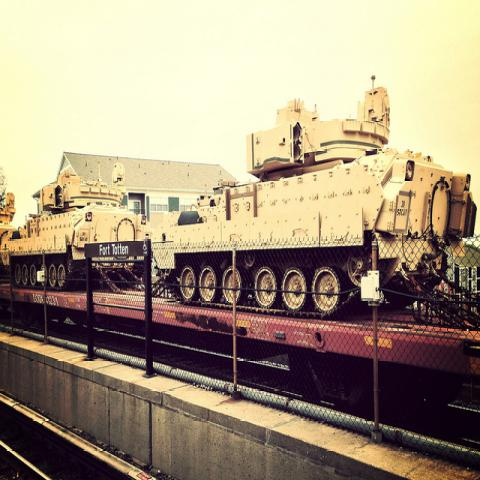truck: (147, 74, 476, 318)
